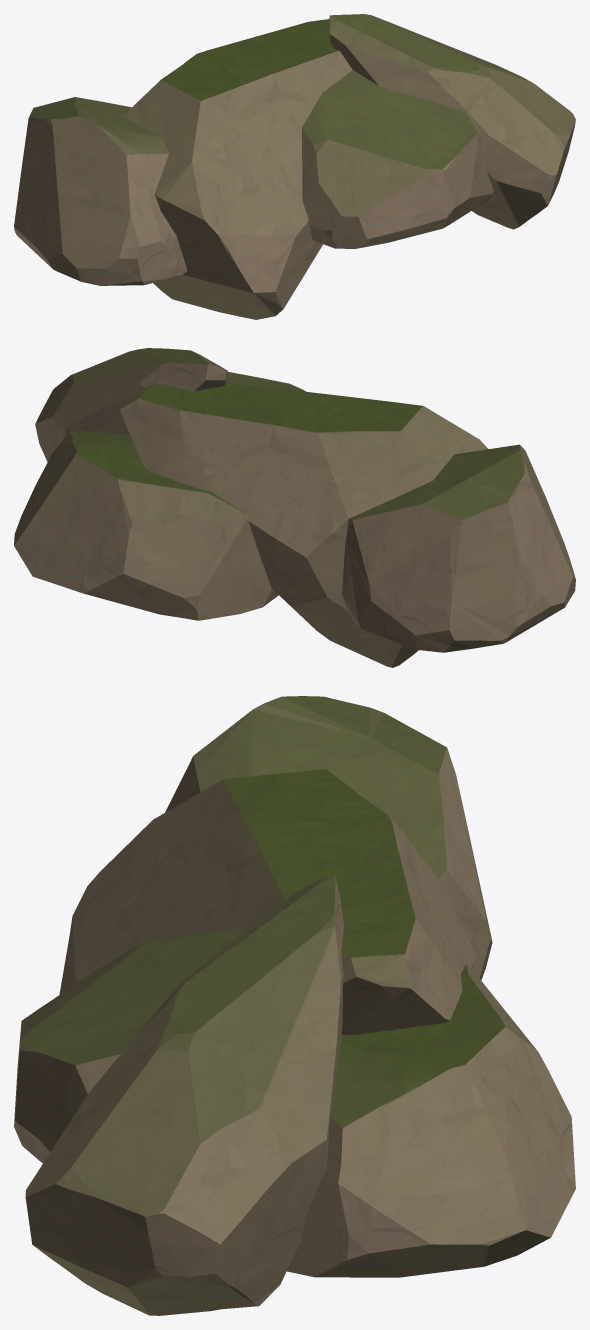
Rendered from SM_Env_Rock_Pile_06.glb.
The picture shows the model from 3 angles, top to bottom: view 1: azimuth 30°, elevation 25°; view 2: azimuth 150°, elevation 25°; view 3: azimuth 270°, elevation 25°; orthographic projection. The views are drawn at different scales.
Visible parts, largest first — view 1: SM_Env_Rock_Pile_06; view 2: SM_Env_Rock_Pile_06; view 3: SM_Env_Rock_Pile_06.
Part boxes in pixels (x1,y1,x2,y2): SM_Env_Rock_Pile_06: [14, 14, 575, 319]; SM_Env_Rock_Pile_06: [14, 348, 575, 667]; SM_Env_Rock_Pile_06: [14, 696, 575, 1315].
Bounding box in the file's own units: 7.92 × 3.64 × 4.62.
1 material, 1 textured.
